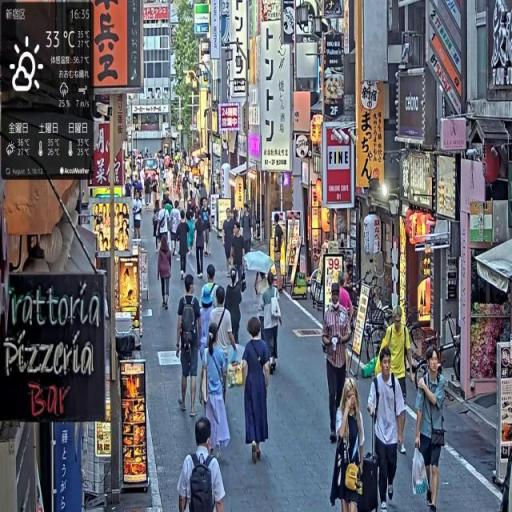person: (368, 344, 408, 511), (414, 342, 448, 512), (322, 277, 353, 450), (379, 304, 414, 451), (329, 377, 367, 512), (242, 315, 274, 466), (179, 417, 227, 512), (201, 324, 231, 463), (176, 275, 203, 418), (261, 271, 284, 378), (157, 233, 174, 313), (231, 224, 248, 293), (177, 210, 191, 282), (223, 208, 237, 277), (195, 207, 208, 280), (170, 202, 183, 260), (202, 199, 212, 258)
